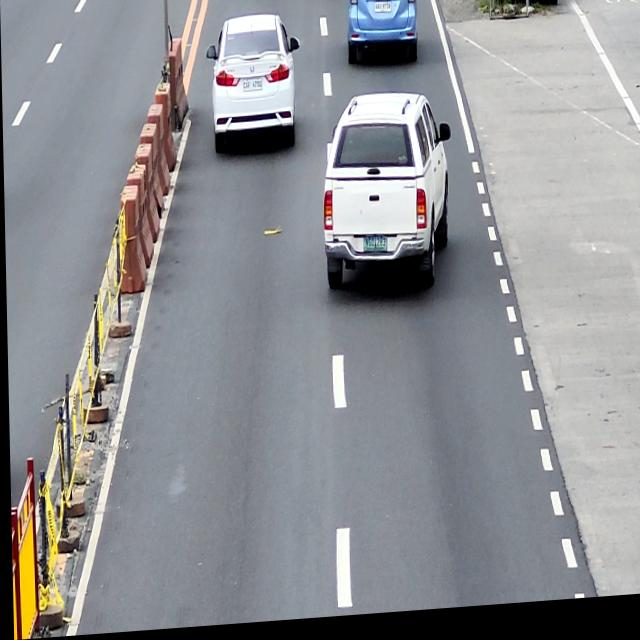Car: (320, 94, 453, 302), (206, 17, 300, 158), (346, 0, 419, 73)
License-Plate: (363, 241, 387, 258), (242, 81, 262, 95), (374, 7, 391, 20)
